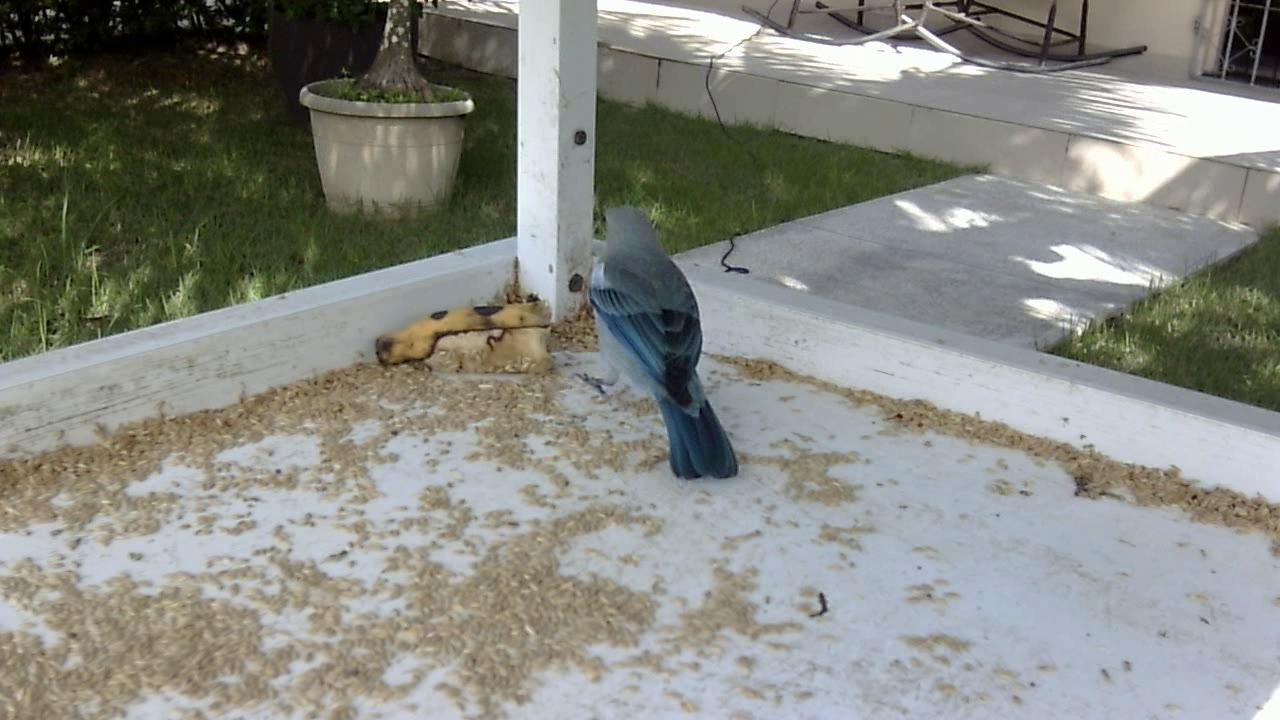sanhaco_da_amazonia: (564, 200, 747, 491)
